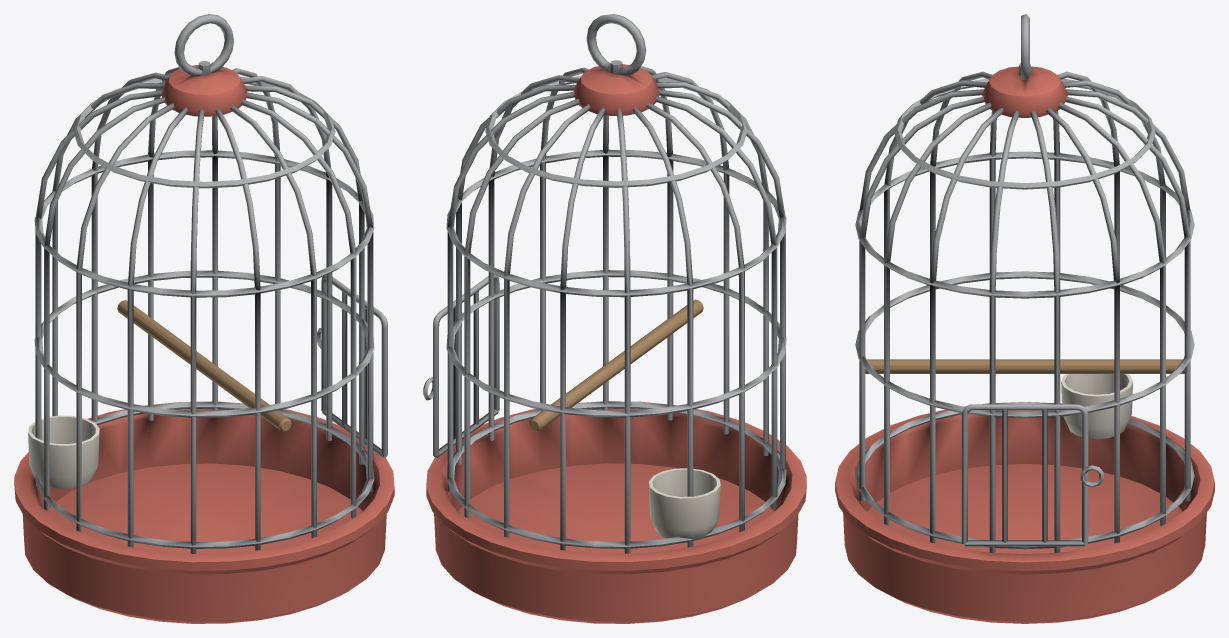
The model's file is junk_cage.glb.
The picture shows the model from 3 angles, left to right: view 1: azimuth 30°, elevation 25°; view 2: azimuth 150°, elevation 25°; view 3: azimuth 270°, elevation 25°; orthographic projection.
Parts seen in each view (by area): view 1: PART; view 2: PART; view 3: PART.
Boxes of the visible parts, x1,y1,x2,y2 form: PART: (14,14,394,623); PART: (423,14,806,623); PART: (835,14,1214,623).
Size of the model in its own units: 0.316 by 0.4906 by 0.316.
